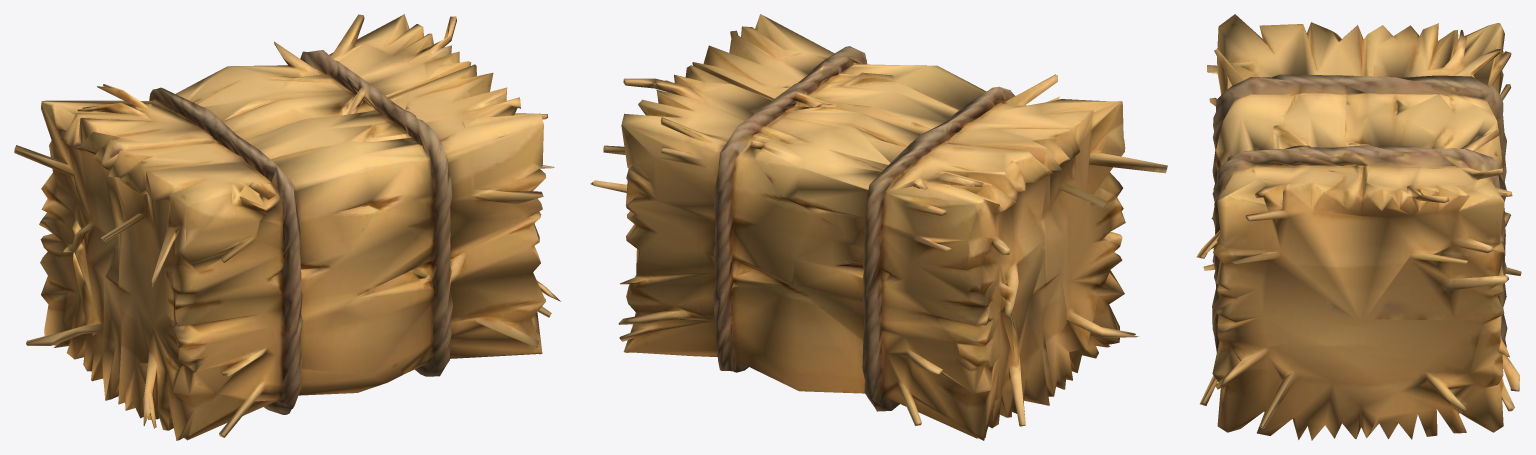
File: haybale-a.glb
3 views of the same model, side by side, from view 1: azimuth 30°, elevation 25°; view 2: azimuth 150°, elevation 25°; view 3: azimuth 270°, elevation 25° (orthographic).
Parts seen in each view (by area): view 1: node_0; view 2: node_0; view 3: node_0.
Part boxes in pixels (left/top/right/bottom): node_0: left=14, top=14, right=560, bottom=440; node_0: left=590, top=14, right=1167, bottom=440; node_0: left=1196, top=14, right=1521, bottom=440.
Size of the model in its own units: 1.2 by 0.6987 by 0.8.
1 material, 1 textured.
